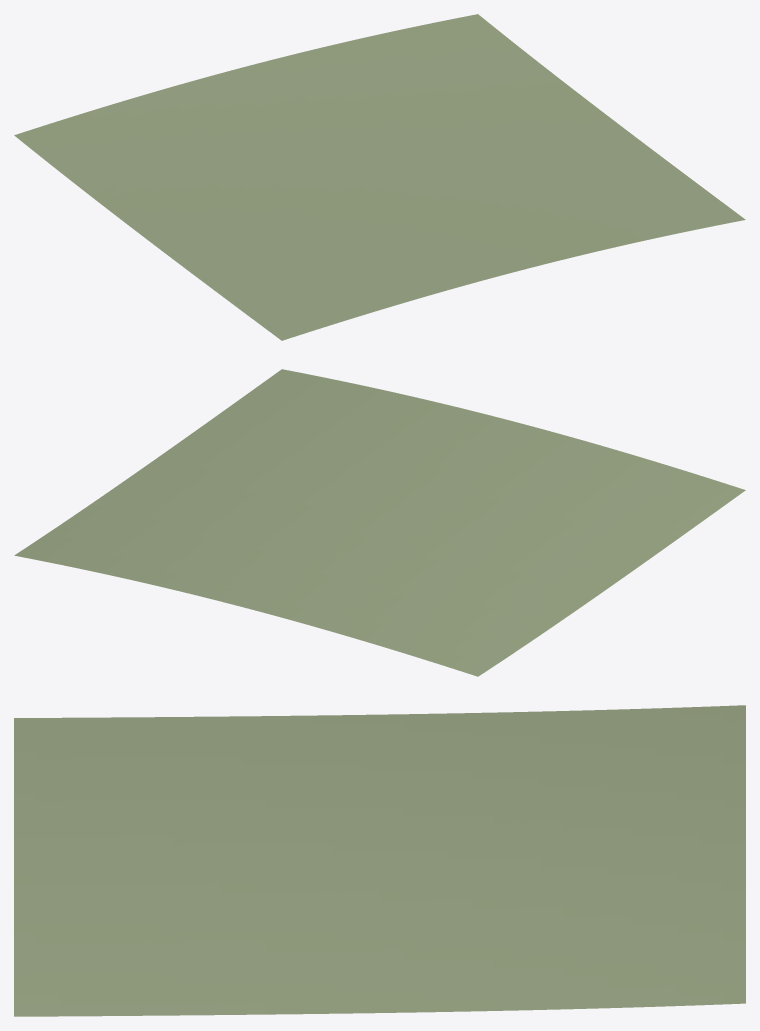
File: valley-6-4.glb
The picture shows the model from 3 angles, top to bottom: view 1: azimuth 30°, elevation 25°; view 2: azimuth 150°, elevation 25°; view 3: azimuth 270°, elevation 25°; orthographic projection. The views are drawn at different scales.
Visible parts, largest first — view 1: valley-6-4; view 2: valley-6-4; view 3: valley-6-4.
Boxes of the visible parts, x1,y1,x2,y2 form: valley-6-4: (14,14,745,340); valley-6-4: (14,369,745,676); valley-6-4: (14,705,745,1016).
Size of the model in its own units: 256 by 11.68 by 256.
